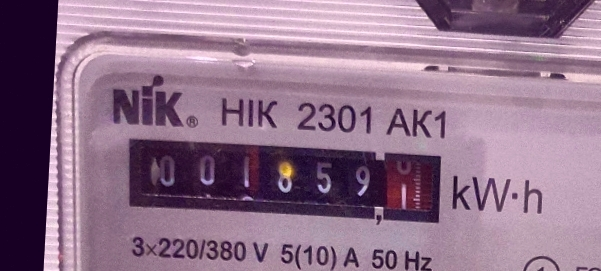0: (156, 151, 177, 188), (196, 151, 217, 186)
1: (239, 152, 252, 188), (396, 179, 410, 210)
5: (312, 158, 334, 194)
8: (274, 157, 295, 193)
9: (351, 162, 372, 197)
screen: (114, 125, 453, 233)
